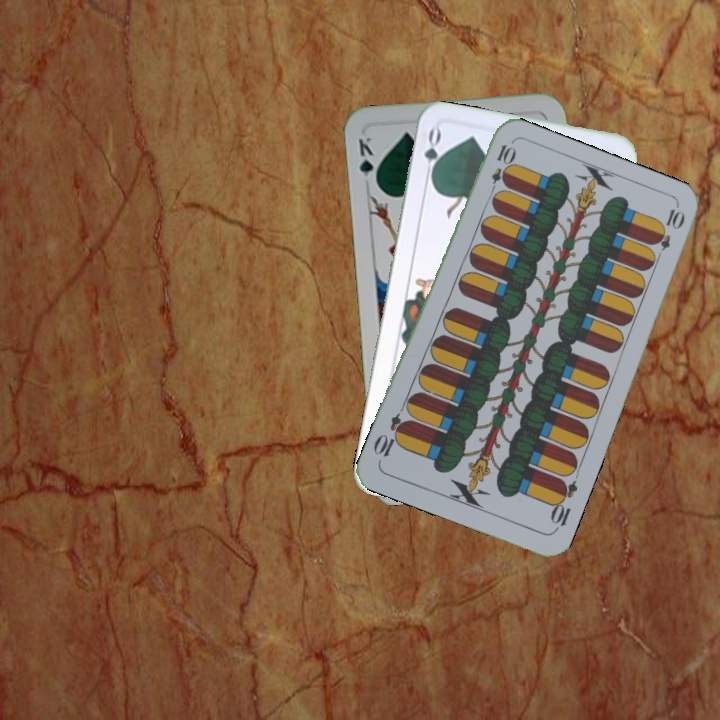E10: (546, 475, 580, 534), (485, 140, 516, 199)
GK: (354, 133, 380, 189)
GO: (419, 125, 444, 185)
